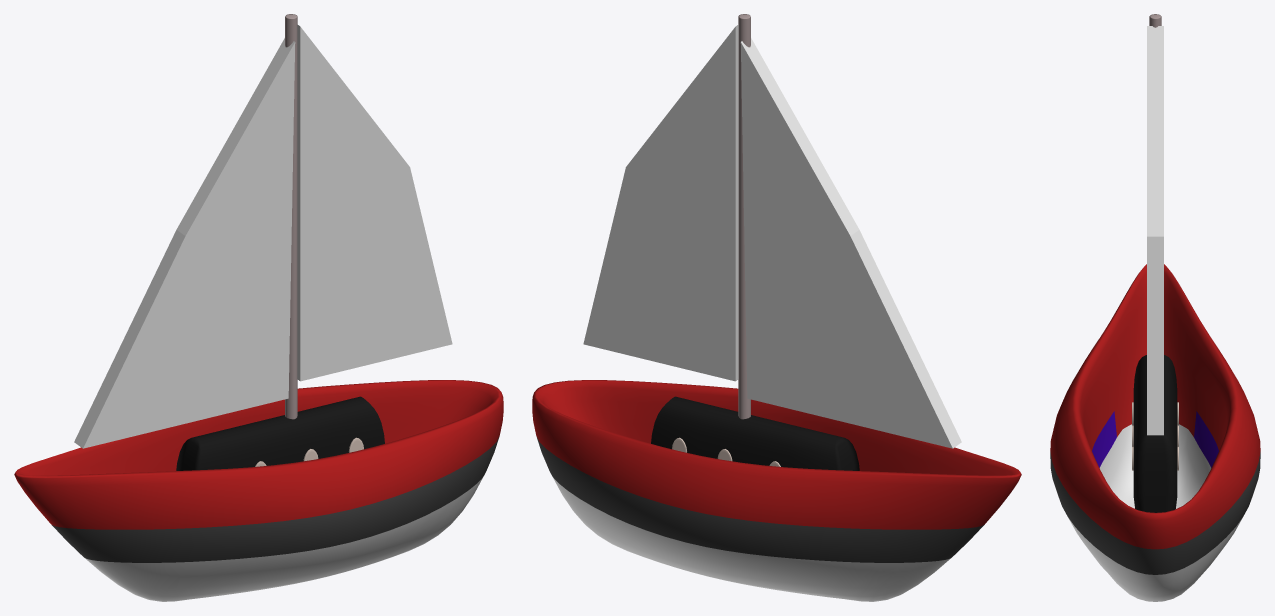
File: KleineZeilboot_01.fbx
3 renders of one model, left to right at view 1: azimuth 30°, elevation 25°; view 2: azimuth 150°, elevation 25°; view 3: azimuth 270°, elevation 25°, orthographic. The views are drawn at different scales.
Visible parts, largest first — view 1: Dek2; view 2: Dek2; view 3: Dek2.
Part boxes in pixels (x1,y1,x2,y2): Dek2: (14, 14, 503, 601); Dek2: (532, 14, 1021, 601); Dek2: (1050, 14, 1260, 601).
Size of the model in its own units: 0.0533 by 0.058 by 0.021.
